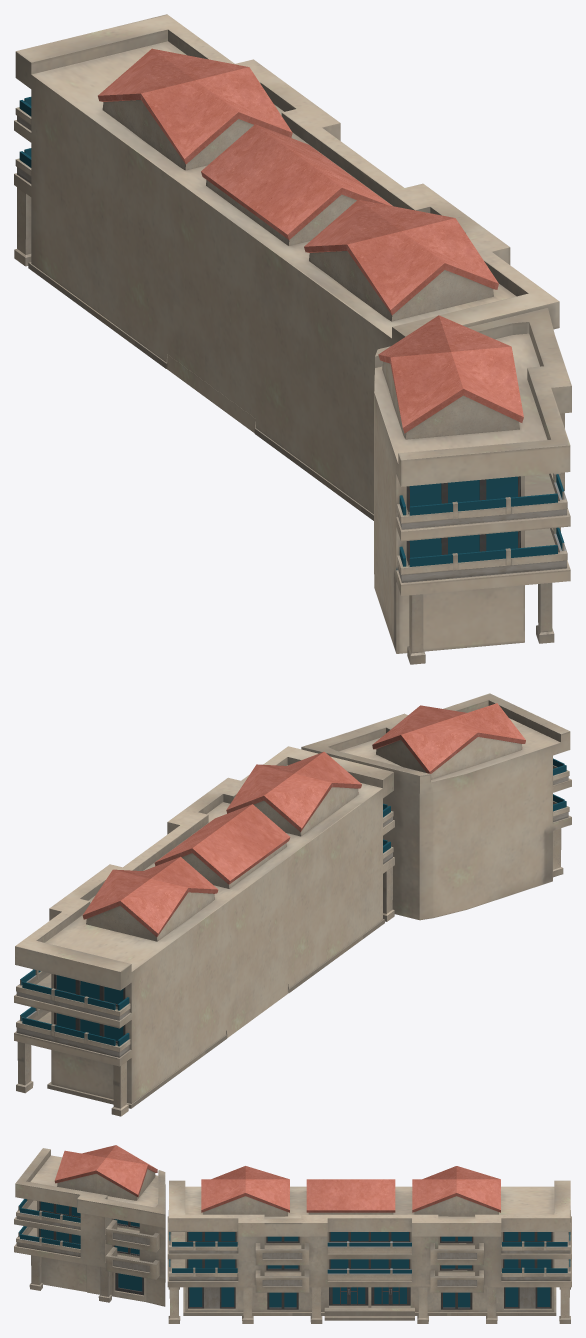
File: Bat_Prado_5.fbx
3 renders of one model, top to bottom at view 1: azimuth 30°, elevation 25°; view 2: azimuth 150°, elevation 25°; view 3: azimuth 270°, elevation 25°, orthographic. The views are drawn at different scales.
Visible parts, largest first — view 1: Bat_Prado_5; view 2: Bat_Prado_5; view 3: Bat_Prado_5.
Boxes of the visible parts, x1,y1,x2,y2 form: Bat_Prado_5: (14, 14, 571, 664); Bat_Prado_5: (14, 693, 571, 1116); Bat_Prado_5: (14, 1145, 571, 1323).
Bounding box in the file's own units: 1748 × 1300 × 5290.
